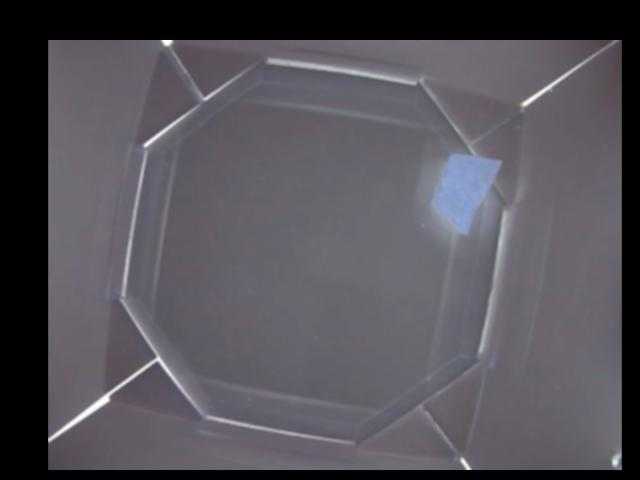China: (429, 153, 501, 237)
